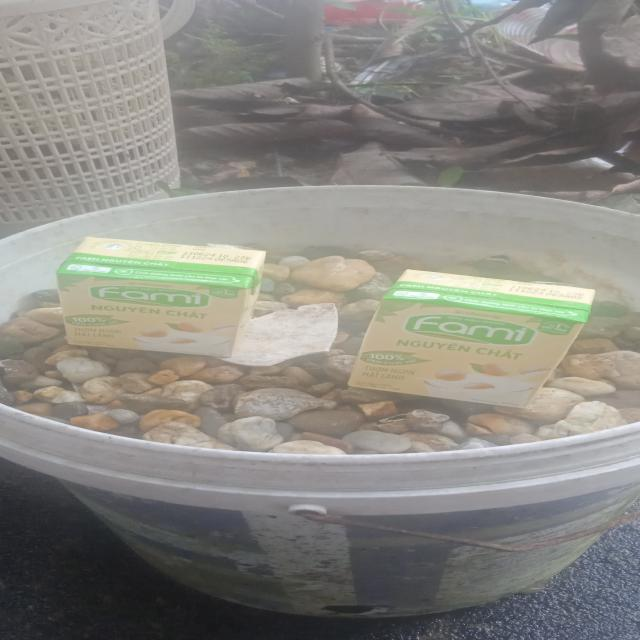Fami: (347, 269, 598, 411), (60, 239, 272, 357)
